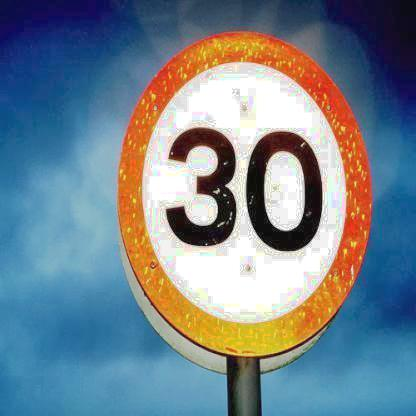Speed Limit -30-: (115, 33, 380, 384)
